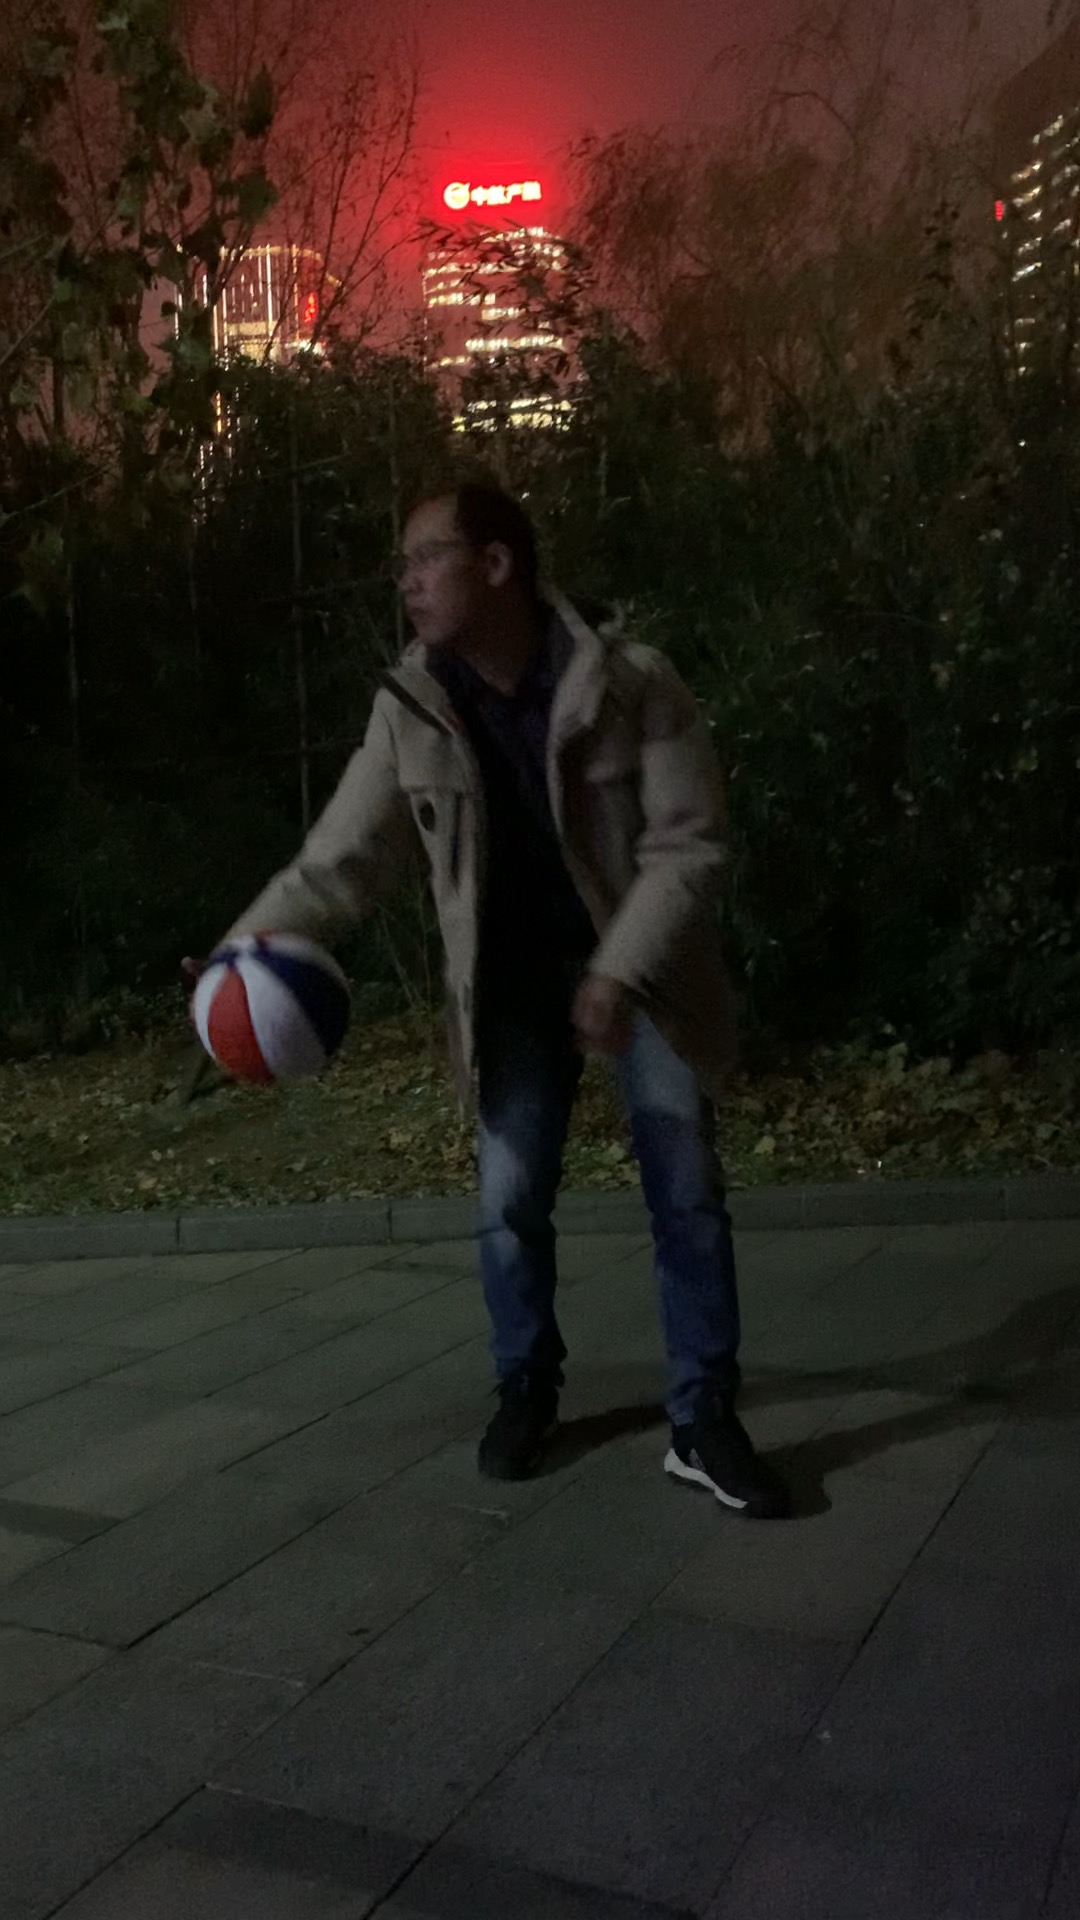ball: (193, 935, 352, 1087)
